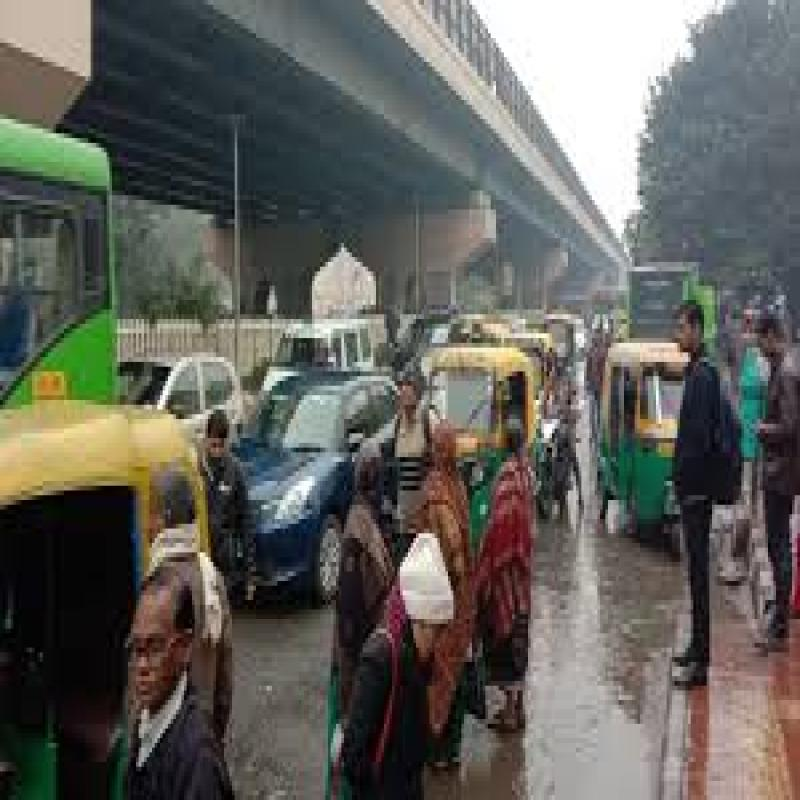auto: (597, 330, 695, 543), (422, 337, 536, 518)
car: (220, 355, 388, 577)
